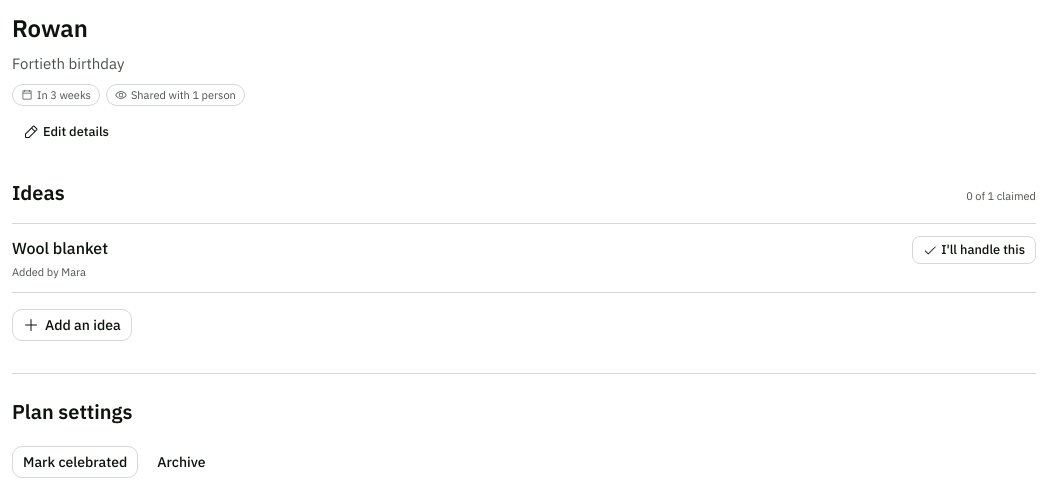
Test: the gift plan detail › offers the claim to anyone who can see an unclaimed idea
The image size is (1048, 495).
Click the button "I'll handle this" at (974, 250), box [912,236,1036,264]
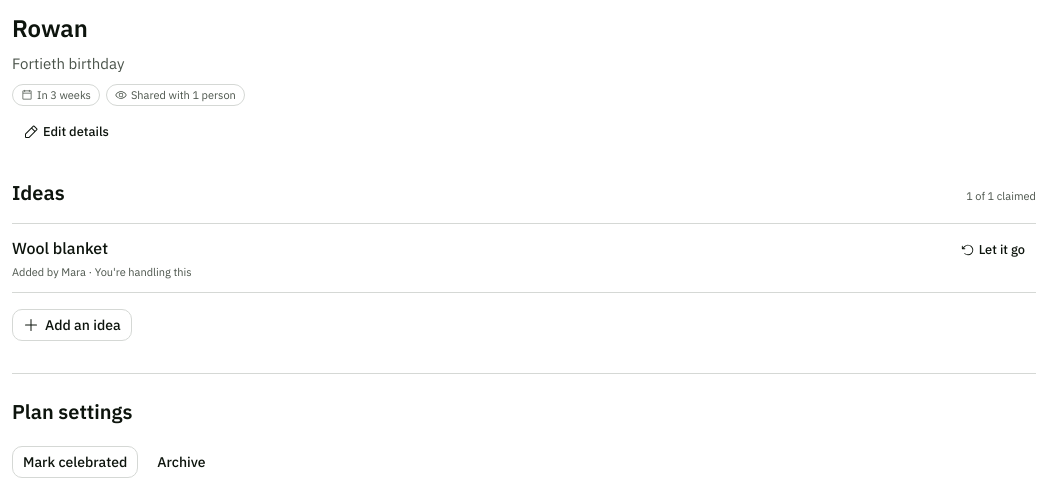
Now the text "Added by Mara · You're handling this" is shown, box [12,265,192,279]
Now the button "Let it go" is shown, box [950,236,1036,264]
